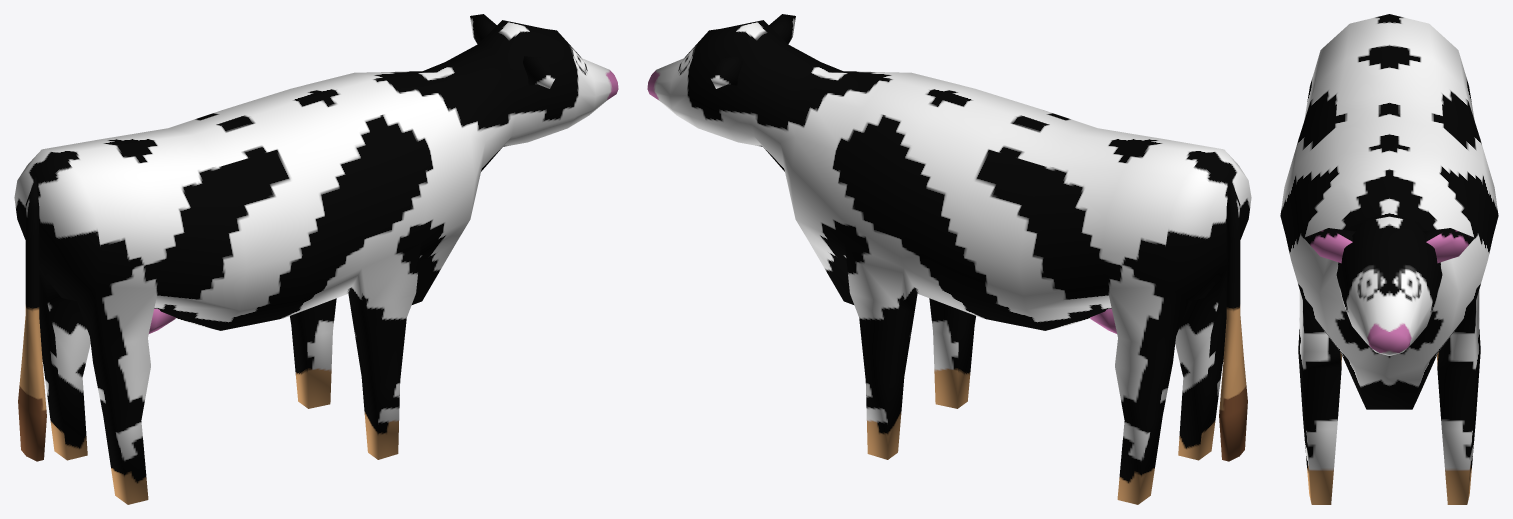
Rendered from Cow.fbx.
The picture shows the model from 3 angles, left to right: view 1: azimuth 30°, elevation 25°; view 2: azimuth 150°, elevation 25°; view 3: azimuth 270°, elevation 25°; orthographic projection.
Visible parts, largest first — view 1: Cylinder; view 2: Cylinder; view 3: Cylinder.
Boxes of the visible parts, x1,y1,x2,y2 form: Cylinder: [14, 14, 618, 504]; Cylinder: [647, 14, 1251, 504]; Cylinder: [1280, 14, 1498, 504].
Size of the model in its own units: 288 by 171 by 93.01.
